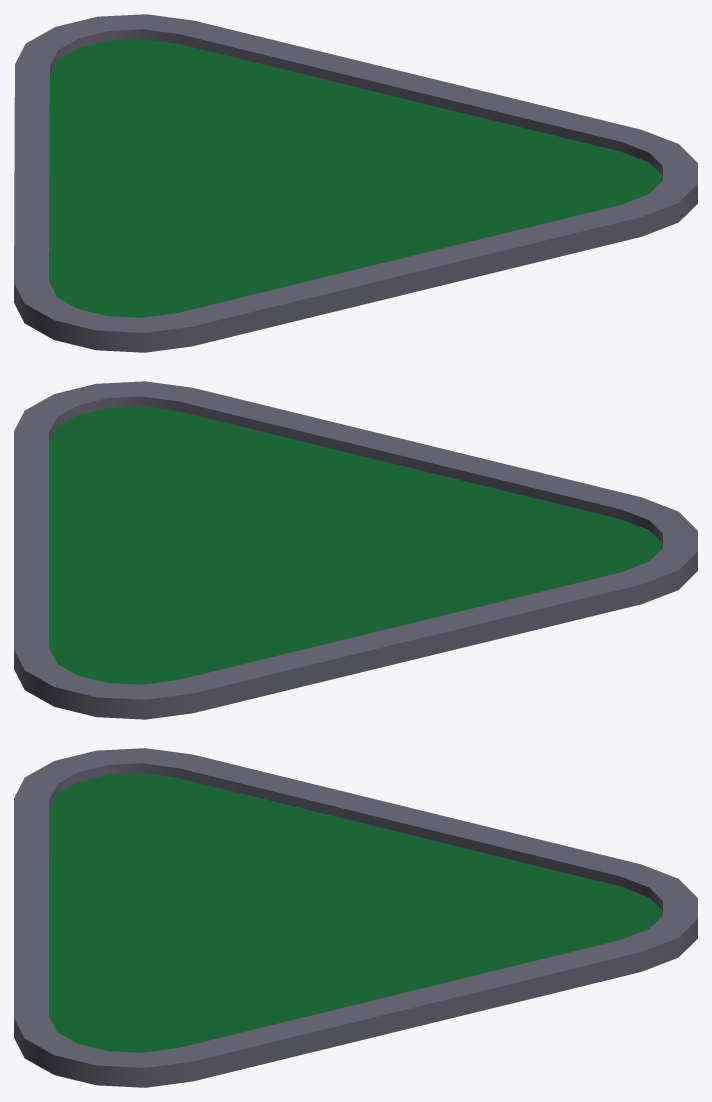
Rendered from border_lawn_triangle.fbx.
The picture shows the model from 3 angles, top to bottom: view 1: azimuth 30°, elevation 25°; view 2: azimuth 150°, elevation 25°; view 3: azimuth 270°, elevation 25°; orthographic projection.
Visible parts, largest first — view 1: border_lawn_triangle; view 2: border_lawn_triangle; view 3: border_lawn_triangle.
Part boxes in pixels (x1=…): border_lawn_triangle: x1=14, y1=14, x2=697, y2=352; border_lawn_triangle: x1=14, y1=381, x2=697, y2=719; border_lawn_triangle: x1=14, y1=748, x2=697, y2=1087.
Bounding box in the file's own units: 381 × 11.05 × 344.
